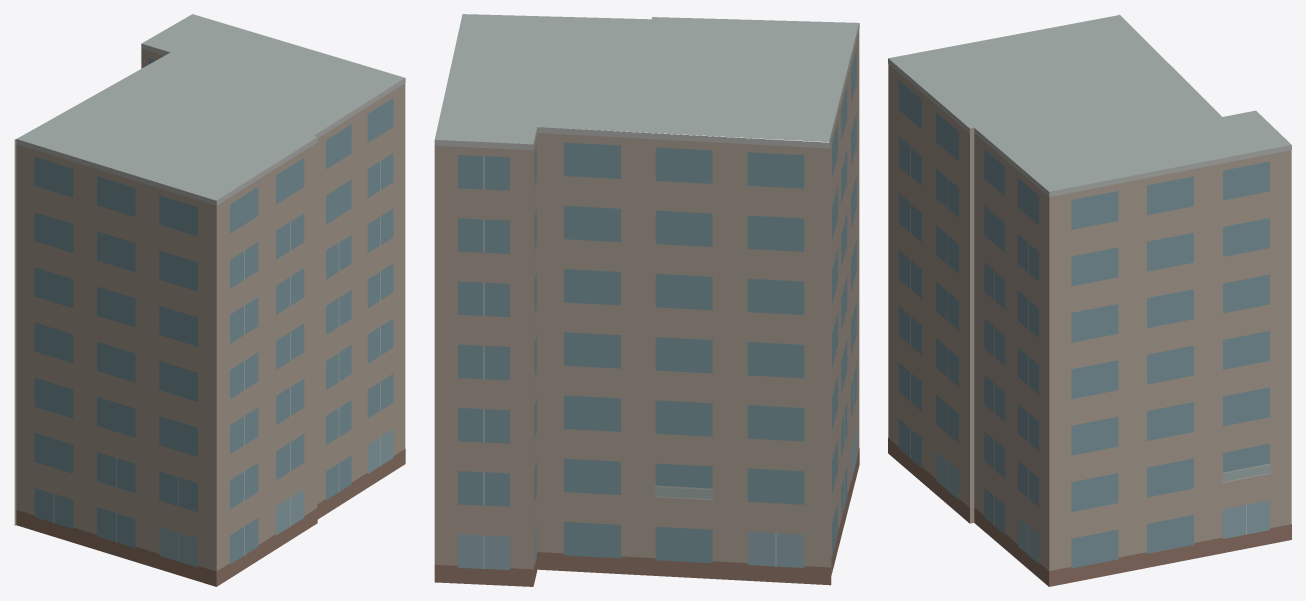
File: survey-upis-32673473.glb
3 renders of one model, left to right at view 1: azimuth 30°, elevation 25°; view 2: azimuth 150°, elevation 25°; view 3: azimuth 270°, elevation 25°, orthographic. The views are drawn at different scales.
Parts seen in each view (by area): view 1: survey-upis-32673473.tmp; view 2: survey-upis-32673473.tmp; view 3: survey-upis-32673473.tmp.
Boxes of the visible parts, box(x1,y1,x2,y2) form: survey-upis-32673473.tmp: box(14, 14, 405, 586); survey-upis-32673473.tmp: box(434, 14, 859, 586); survey-upis-32673473.tmp: box(888, 14, 1291, 586).
Bounding box in the file's own units: 17.72 × 18.35 × 17.
